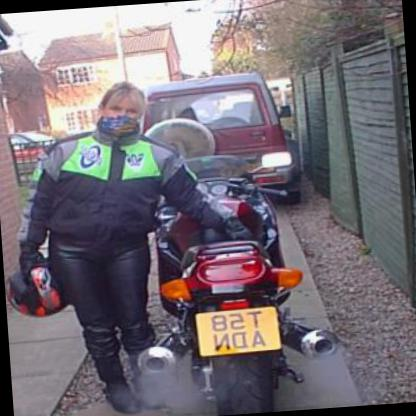motorcycle: (109, 178, 326, 415)
